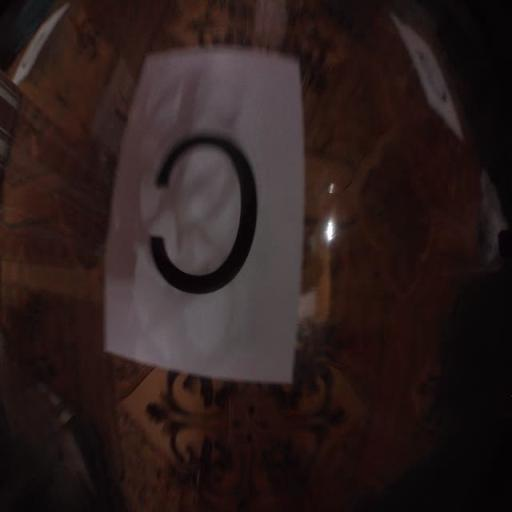C: (151, 134, 257, 294)
